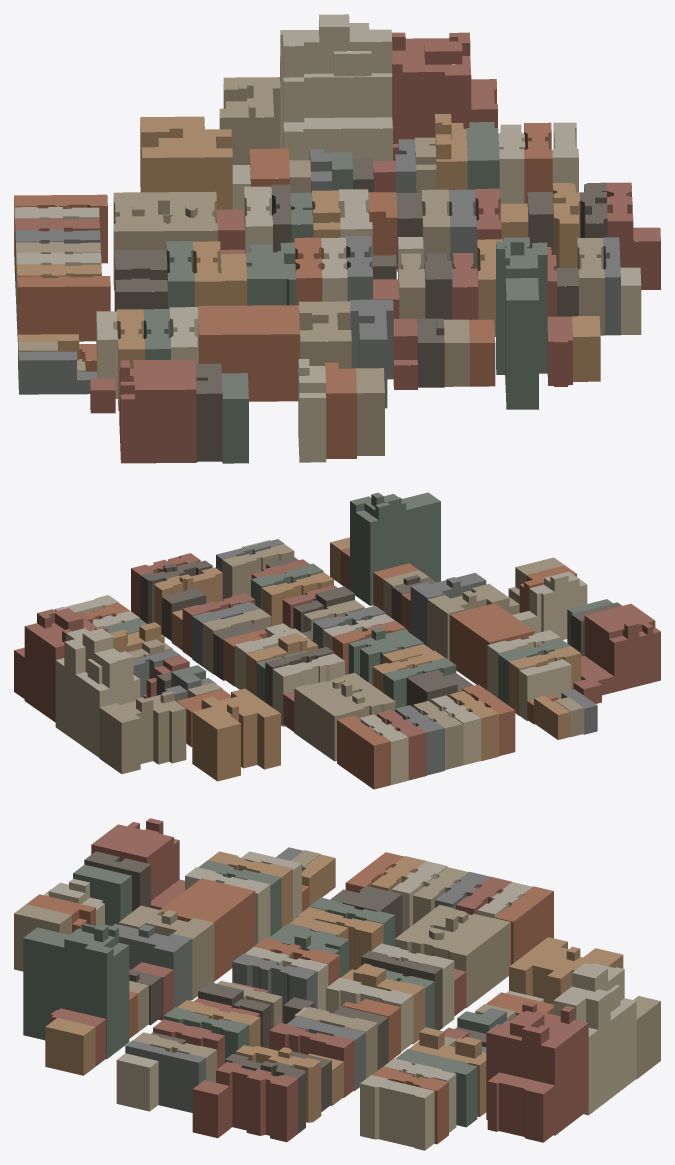
The model's file is tile--2_-6.glb.
3 renders of one model, top to bottom at view 1: azimuth 30°, elevation 25°; view 2: azimuth 150°, elevation 25°; view 3: azimuth 270°, elevation 25°, orthographic. The views are drawn at different scales.
Parts seen in each view (by area): view 1: wall, roof; view 2: wall, roof; view 3: wall, roof.
Part boxes in pixels (box(x1,y1,x2,y2)): wall: box(14, 20, 660, 463); roof: box(14, 14, 660, 404); wall: box(14, 494, 660, 789); roof: box(14, 492, 660, 745); wall: box(14, 821, 660, 1150); roof: box(14, 818, 660, 1098).
Bounding box in the file's own units: 212 × 45.53 × 211.
